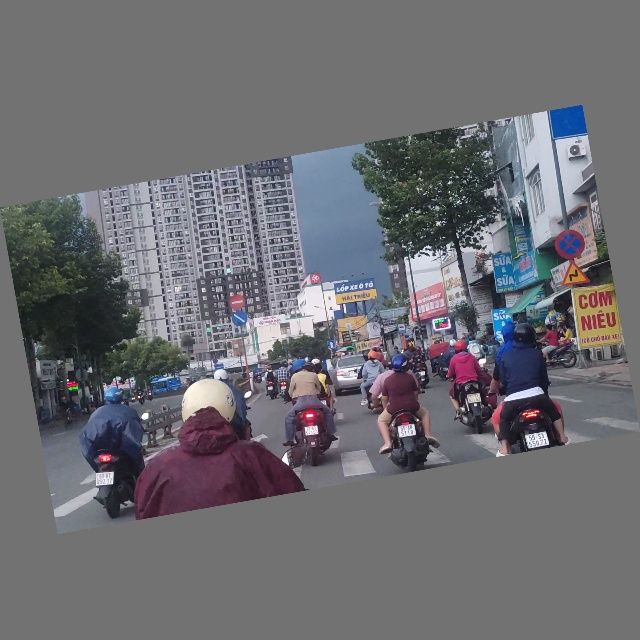I.407a: (327, 340, 337, 351)
I.434a: (397, 324, 407, 335)
P.102: (228, 294, 247, 312)
P.130: (553, 227, 588, 262)
R.302a: (231, 311, 250, 329)
W.202b: (557, 258, 591, 289)
